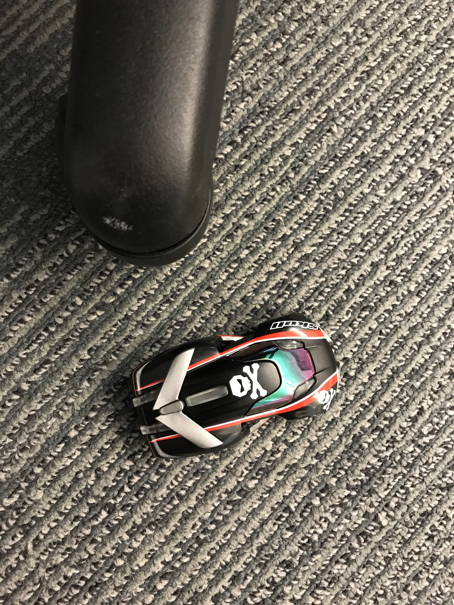Skull: (131, 319, 342, 460)
